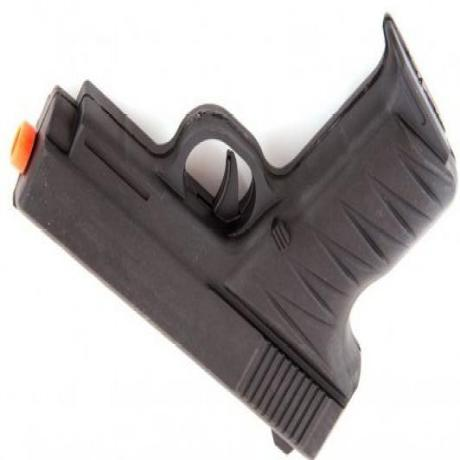weapon: (11, 13, 456, 458)
